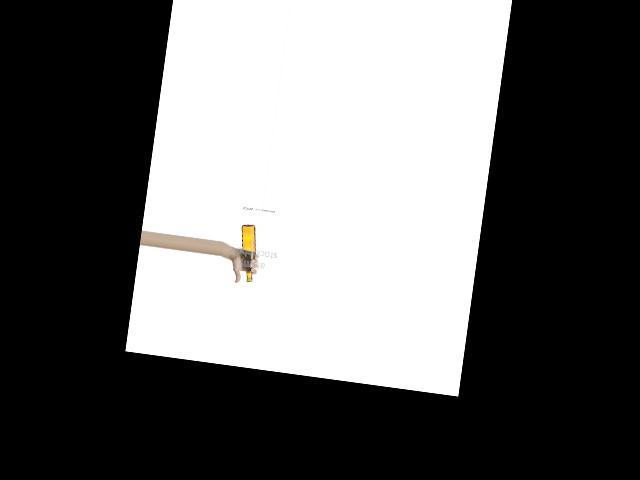beer: (234, 223, 259, 282)
